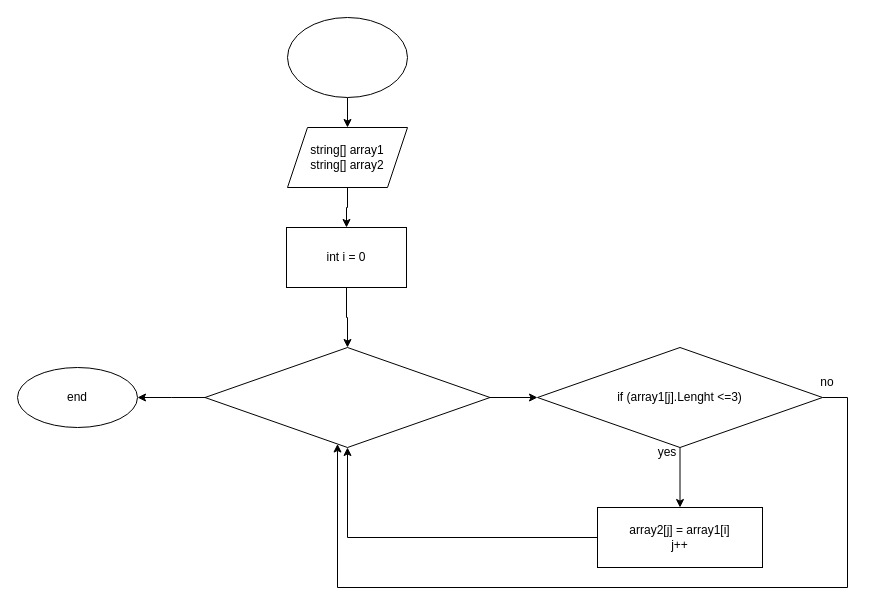
The diagram is 875 pixels wide and 613 high, and some of its shapes have lost their labels. Each missing label, with the centre of its shape:
for (int j = 0; j <= array1.Lenght; j++): (347,397)
start: (347,57)
